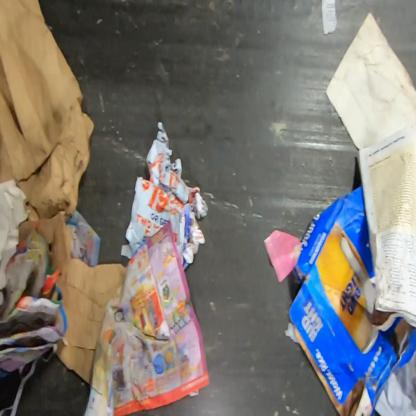cardboard: (288, 184, 415, 415), (19, 210, 126, 386)
